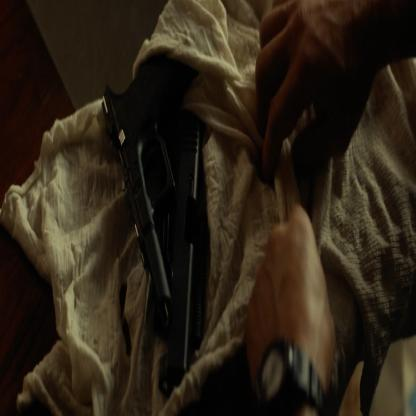gun: (93, 60, 213, 366)
